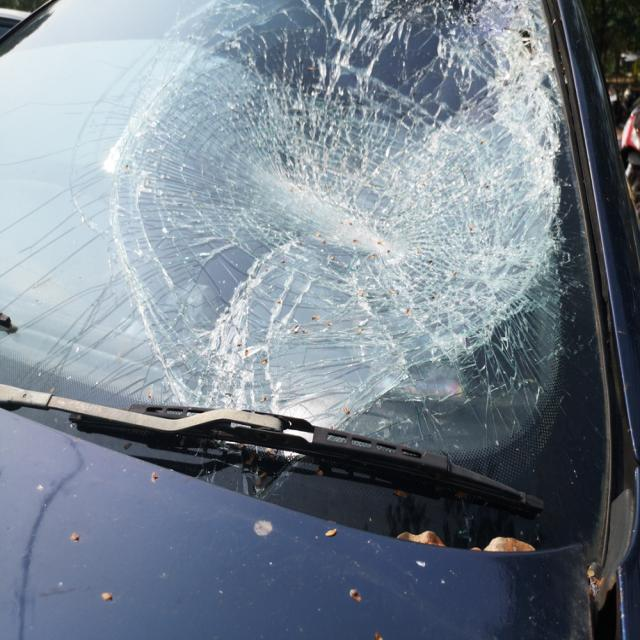Windshield: (96, 0, 568, 440)
